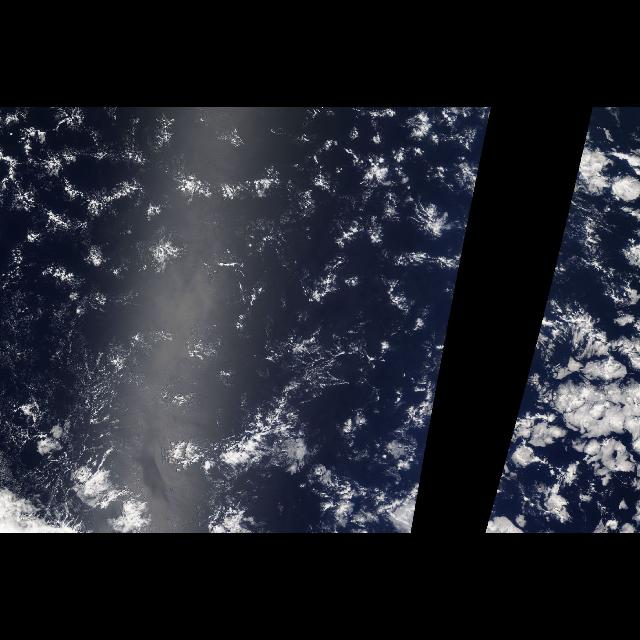Flower: (4, 108, 472, 398), (488, 137, 640, 533)
